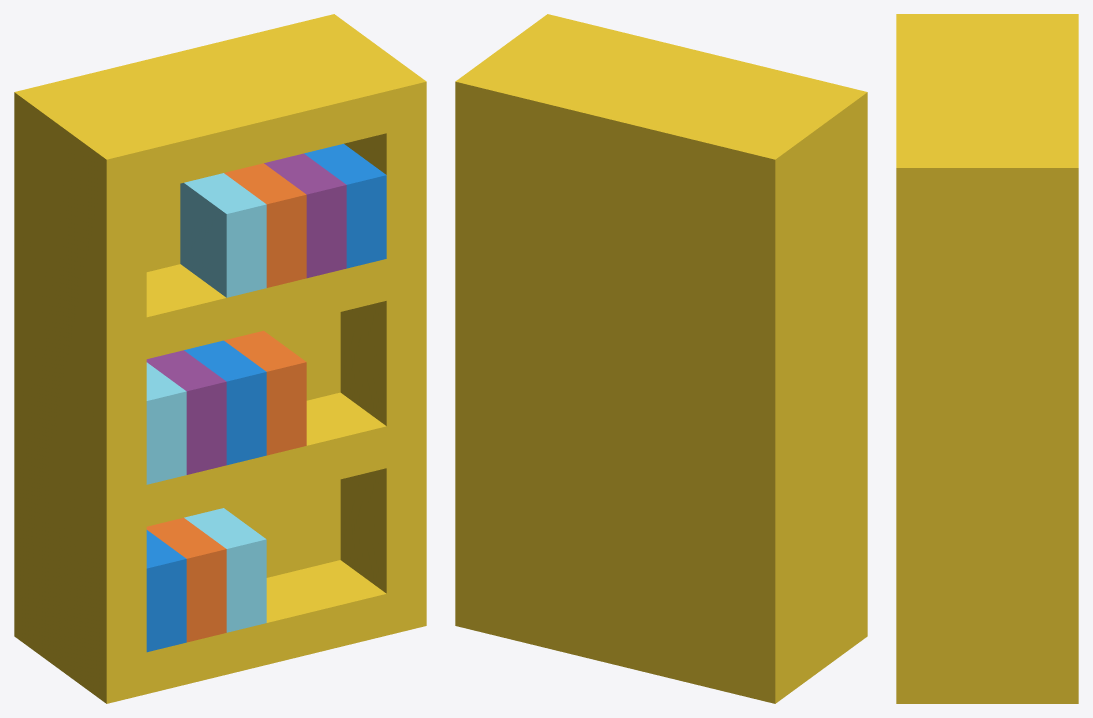
File: Bookshelf.fbx
3 views of the same model, side by side, from view 1: azimuth 30°, elevation 25°; view 2: azimuth 150°, elevation 25°; view 3: azimuth 270°, elevation 25° (orthographic).
Parts seen in each view (by area): view 1: default; view 2: default; view 3: default.
Part boxes in pixels (x1,y1,x2,y2): default: [14, 14, 426, 703]; default: [455, 14, 867, 703]; default: [896, 14, 1078, 703].
Bounding box in the file's own units: 32 × 52 × 16.
